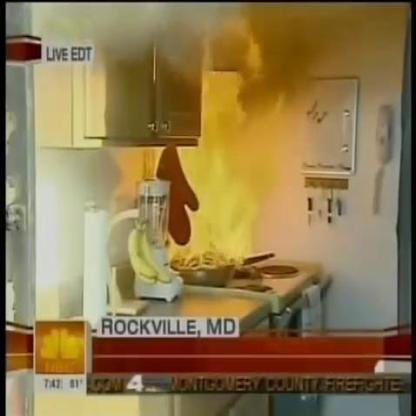fire: (132, 13, 285, 267)
